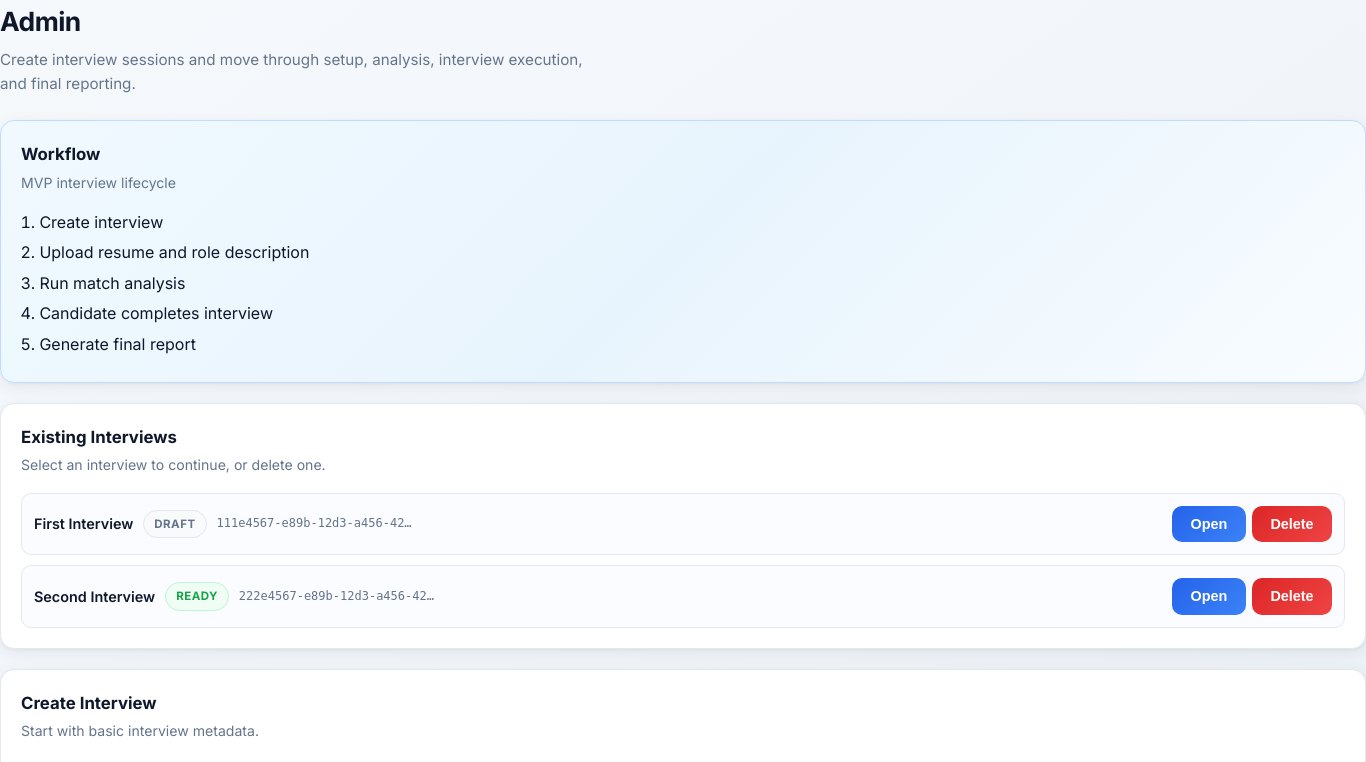
Test: AdminPage › cancels deletion when cancel is clicked
This screenshot has width=1366, height=762.
Expected: the text "First Interview" is shown, [34,512,133,535]
Click the button "Delete" in the row of "111e4567-e89b-12d3-a456-426614174001": coordinates (1292, 524) [1252,506,1332,542]
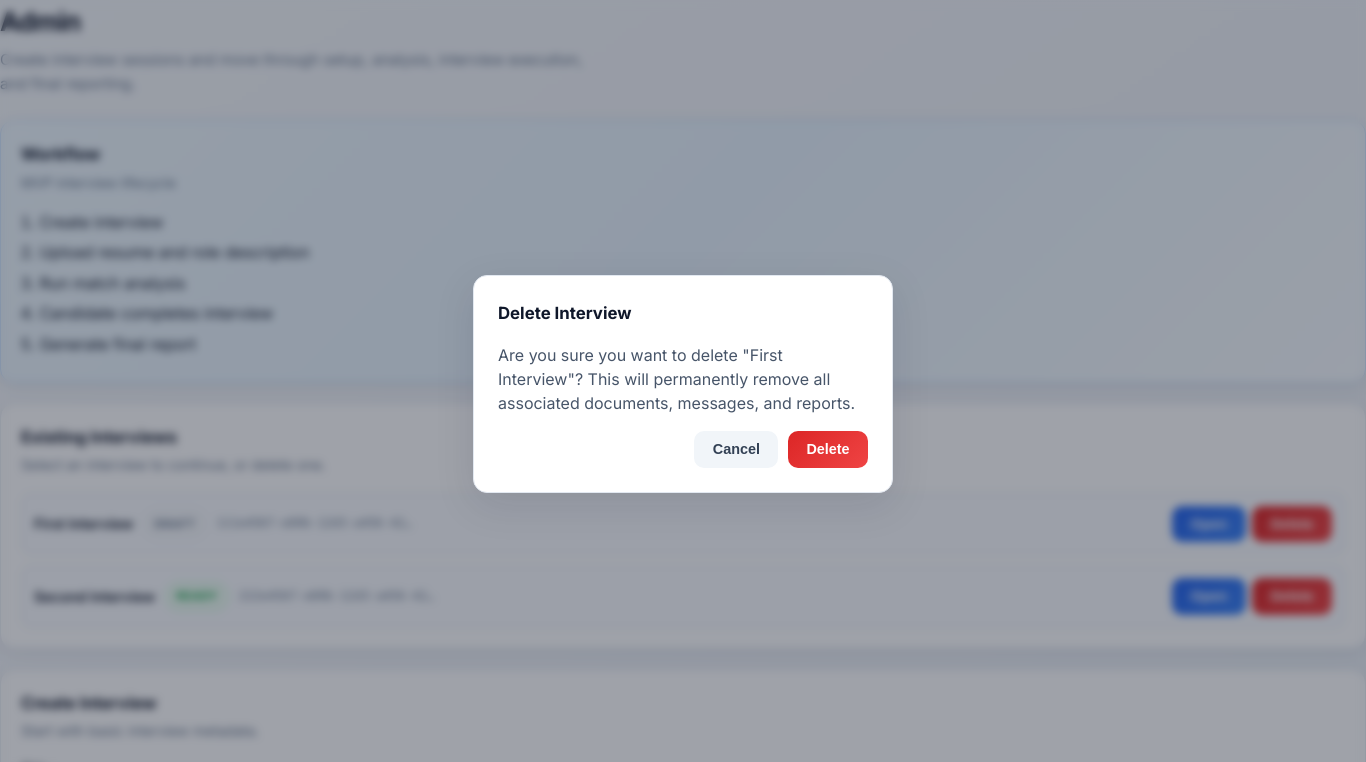
Now the heading "Delete Interview" is shown, box [498,303,632,323]
Click the button "Cancel": coordinates (736, 449) [694,431,778,468]
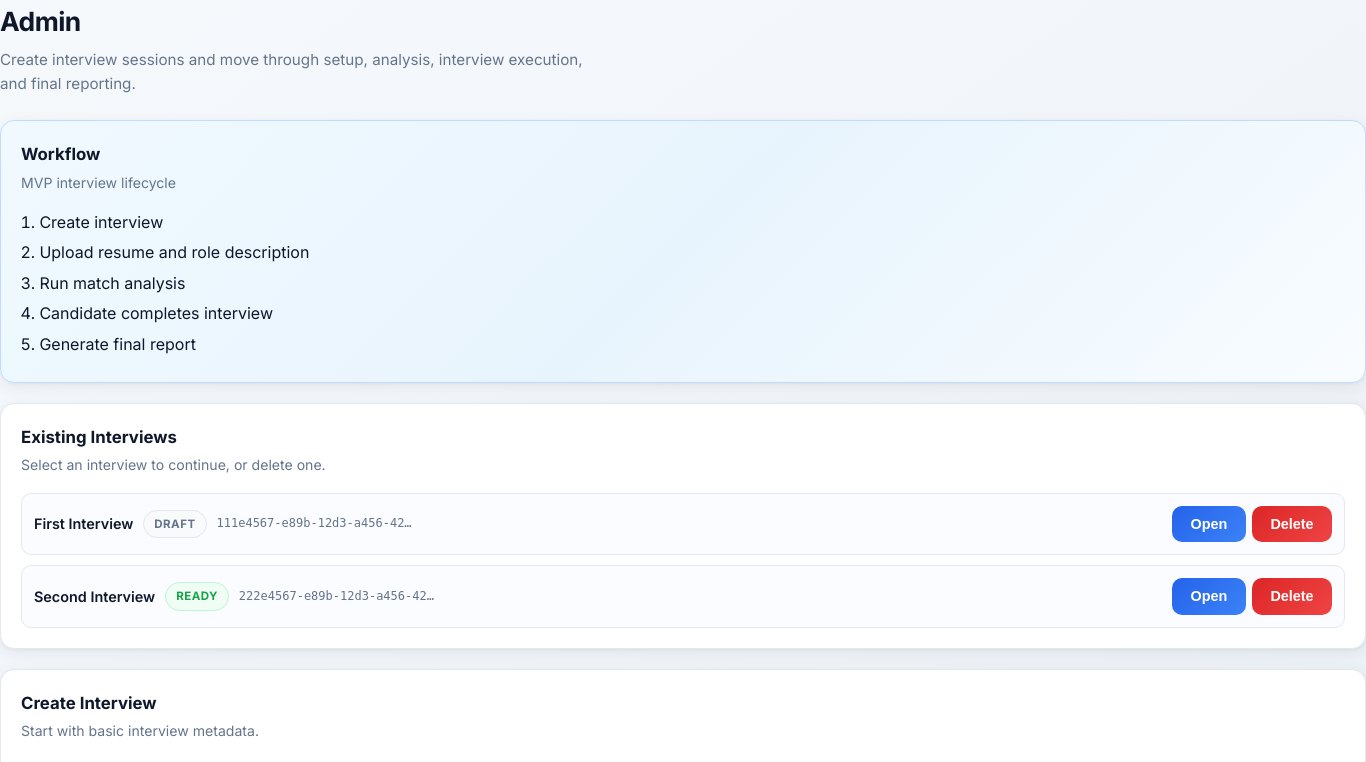
Now the heading "Delete Interview" is gone
